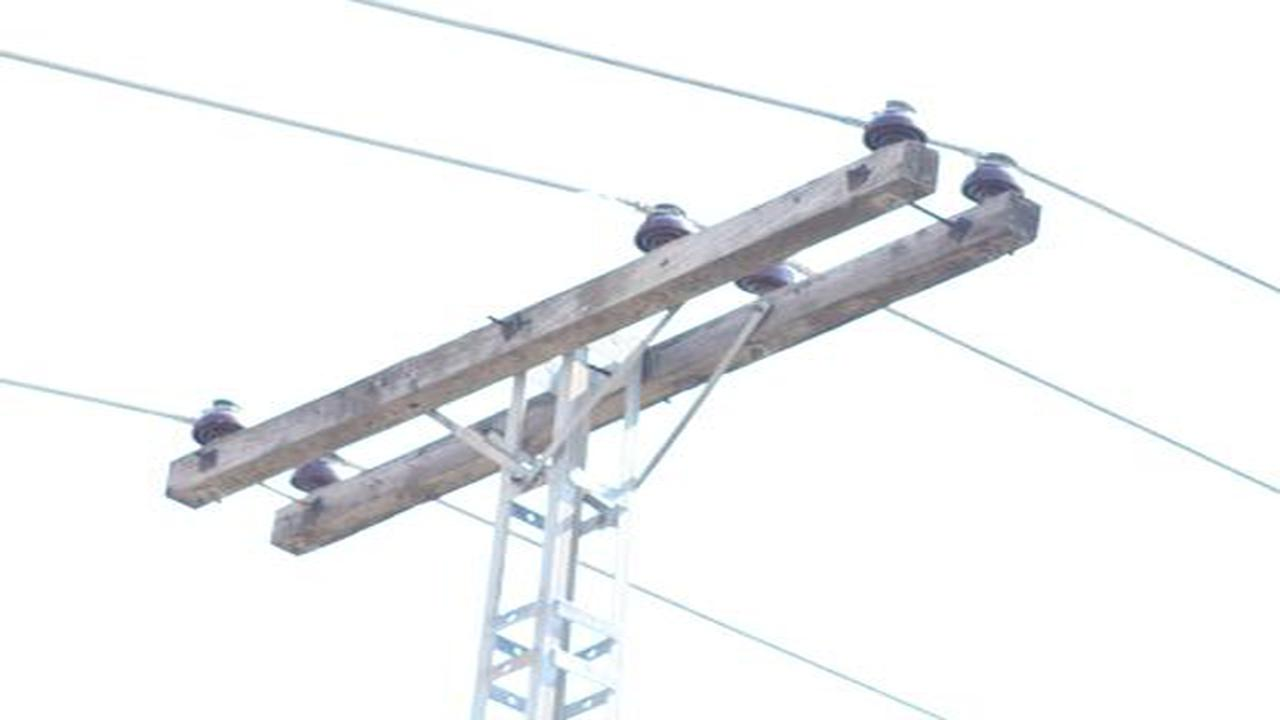insulator_pin: (859, 94, 932, 152), (957, 150, 1027, 207), (629, 201, 700, 254), (189, 392, 249, 443)
